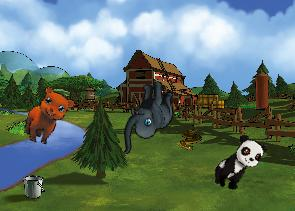bear: (20, 83, 77, 151)
elephant: (115, 79, 178, 154)
panda: (208, 130, 269, 197)
